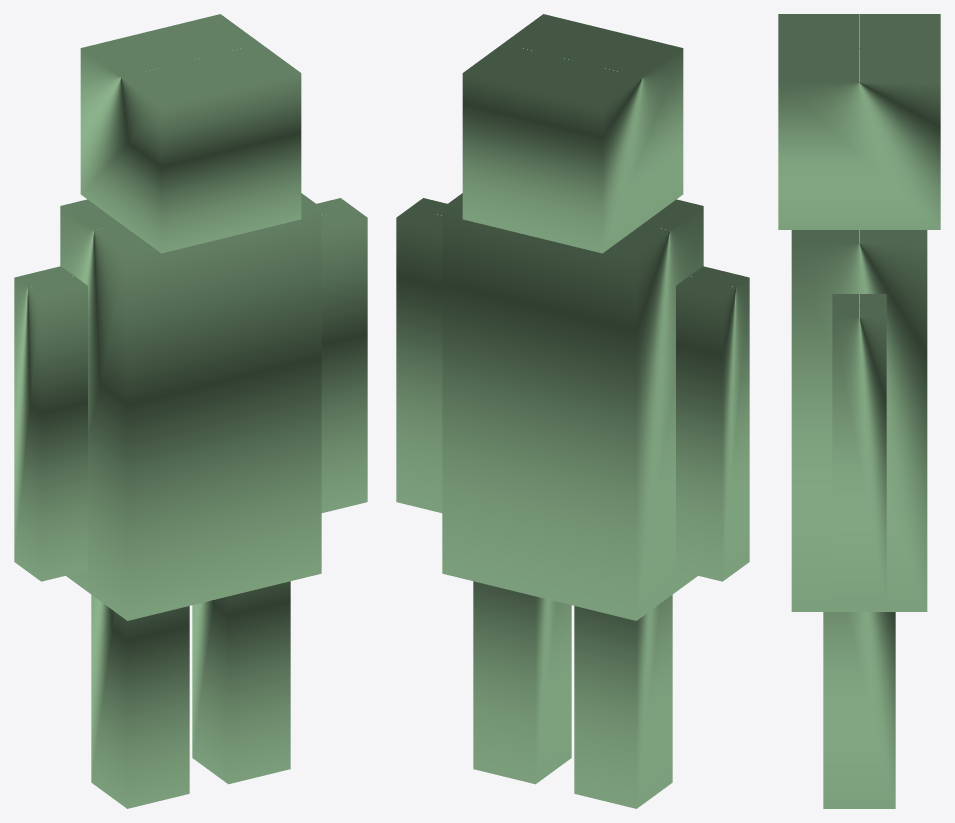
File: RangerWithHood.glb
3 views of the same model, side by side, from view 1: azimuth 30°, elevation 25°; view 2: azimuth 150°, elevation 25°; view 3: azimuth 270°, elevation 25° (orthographic).
Parts seen in each view (by area): view 1: RangerWithHood; view 2: RangerWithHood; view 3: RangerWithHood.
Part boxes in pixels (x1=…): RangerWithHood: x1=14, y1=14, x2=367, y2=808; RangerWithHood: x1=396, y1=14, x2=749, y2=808; RangerWithHood: x1=778, y1=14, x2=940, y2=808.
Size of the model in its own units: 0.84 by 1.76 by 0.36.
